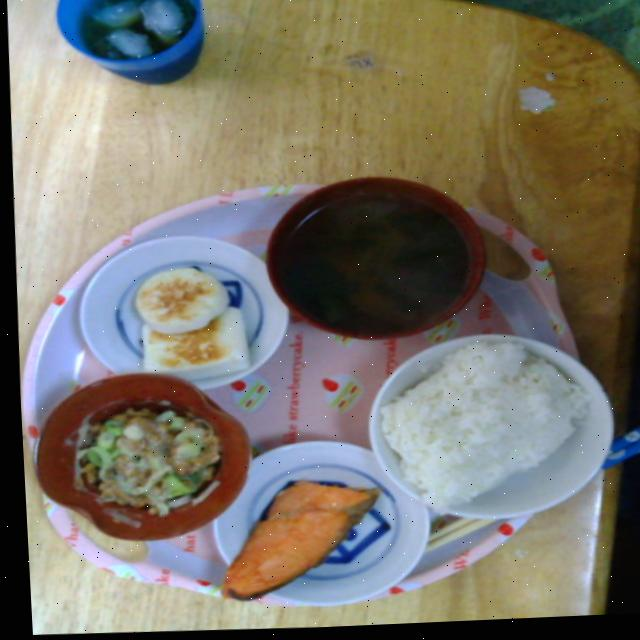米饭主食: (358, 331, 588, 518)
